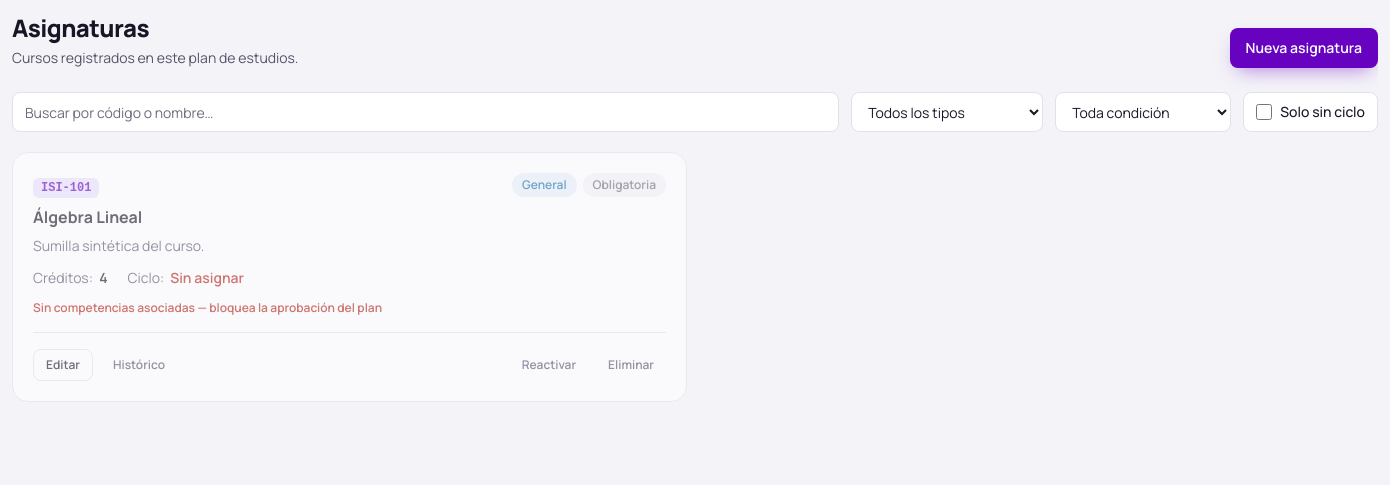
Test: AsignaturasPage — Inactivar y Reactivar (RF-CH-023) › si el servidor rechaza la reactivación, muestra su motivo
The image size is (1390, 485).
What coordinates should you click on to do the following:
click the button "Reactivar"
I would click on:
 (549, 365)
Its box is [510, 349, 588, 381].
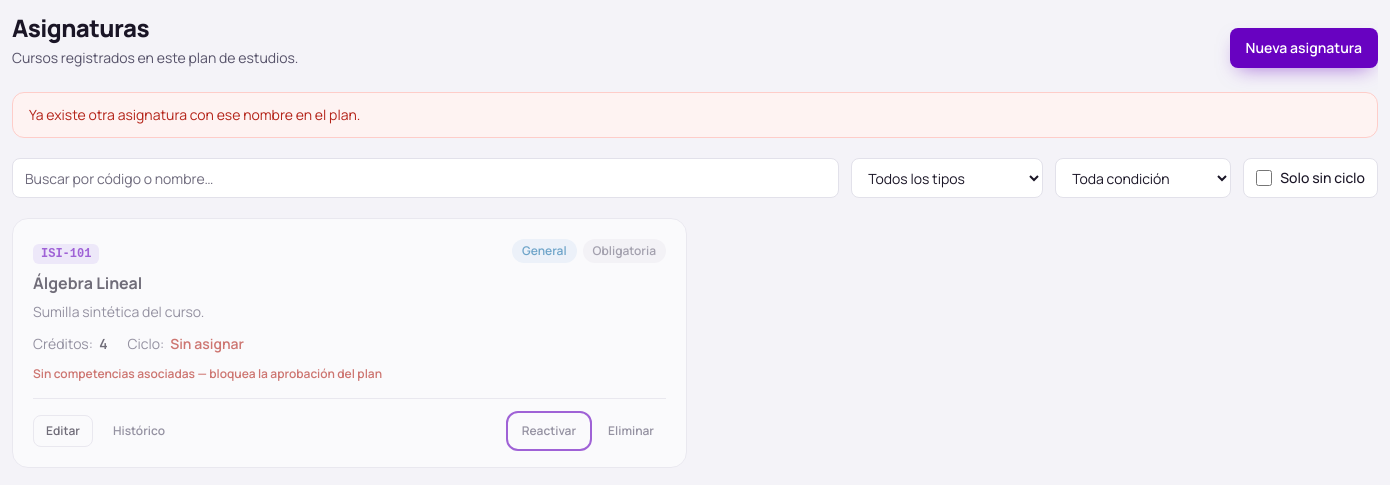
Expected: the text "Ya existe otra asignatura con ese nombre en el plan." is shown, [12, 92, 1378, 138]
